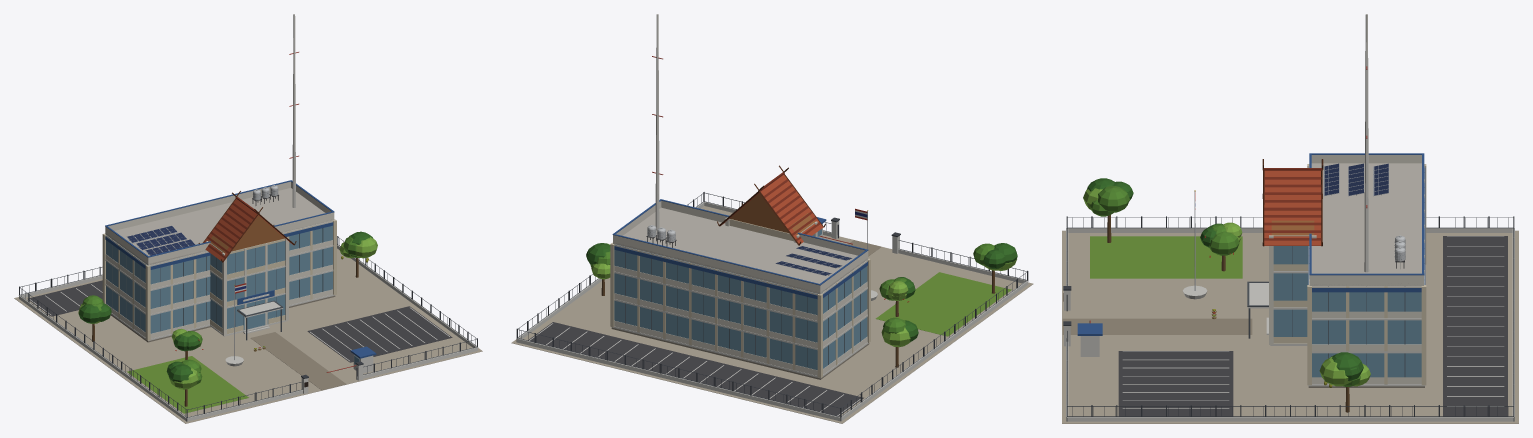
File: police.glb
3 renders of one model, left to right at view 1: azimuth 30°, elevation 25°; view 2: azimuth 150°, elevation 25°; view 3: azimuth 270°, elevation 25°, orthographic. The views are drawn at different scales.
Parts seen in each view (by area): view 1: body; view 2: body; view 3: body.
Part boxes in pixels (x1,y1,x2,y2): body: (14,14,482,423); body: (511,14,1033,423); body: (1062,14,1518,423).
Bounding box in the file's own units: 47.9 × 41.84 × 47.9.
